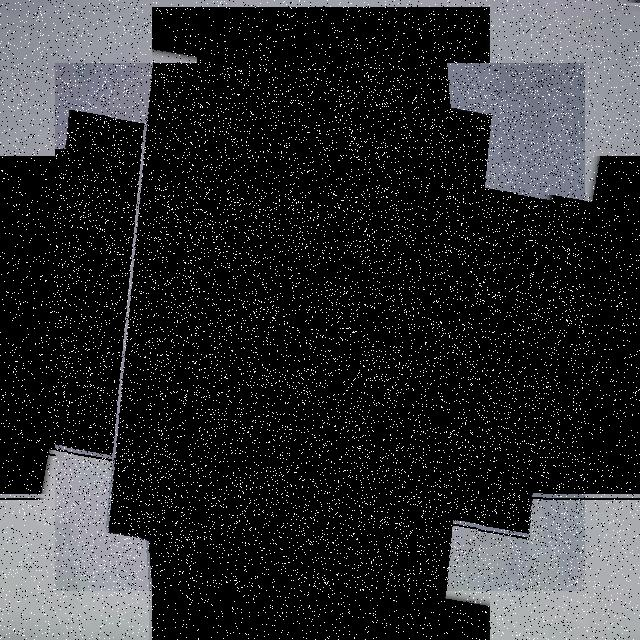dua puluh ribu rupiah: (55, 63, 585, 591)
